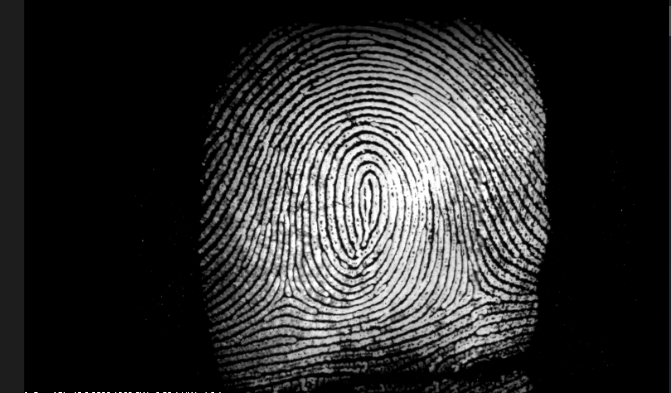deltas: (255, 265, 310, 313), (451, 260, 498, 311)
nucleo: (338, 157, 397, 214)
